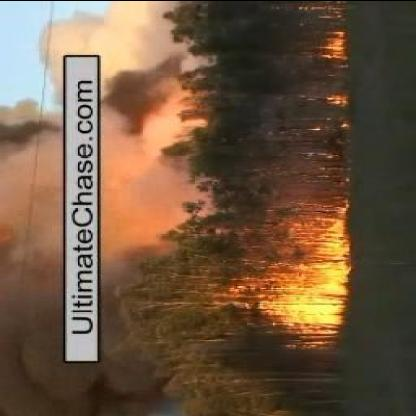-: (0, 0, 166, 416)
foggia-v2-map80-epoch100 - v1 4323: (242, 204, 348, 334), (314, 27, 346, 63), (322, 94, 350, 112)
